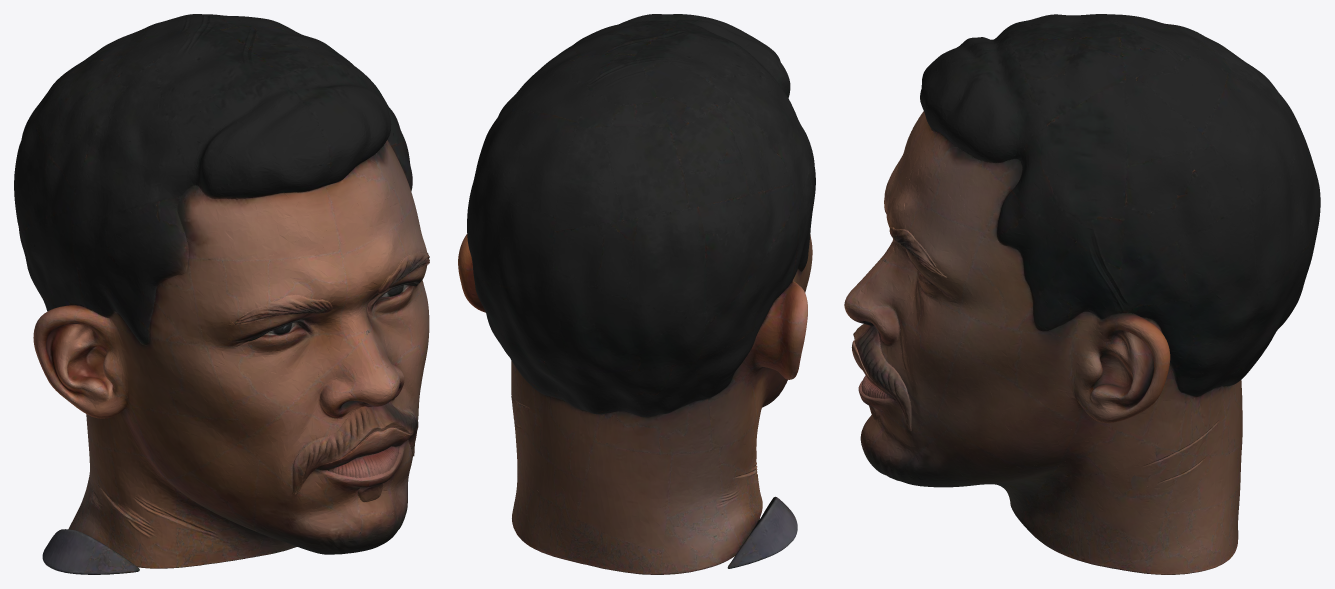
File: daeed.preview-v1.glb
The picture shows the model from 3 angles, left to right: view 1: azimuth 30°, elevation 25°; view 2: azimuth 150°, elevation 25°; view 3: azimuth 270°, elevation 25°; orthographic projection. The views are drawn at different scales.
Parts seen in each view (by area): view 1: tmp2jlmca9f.obj; view 2: tmp2jlmca9f.obj; view 3: tmp2jlmca9f.obj.
Boxes of the visible parts, x1=… form: tmp2jlmca9f.obj: x1=14, y1=14, x2=429, y2=574; tmp2jlmca9f.obj: x1=458, y1=14, x2=815, y2=574; tmp2jlmca9f.obj: x1=844, y1=14, x2=1320, y2=574.
Size of the model in its own units: 1.22 by 1.68 by 1.46.
1 material, 1 textured.
